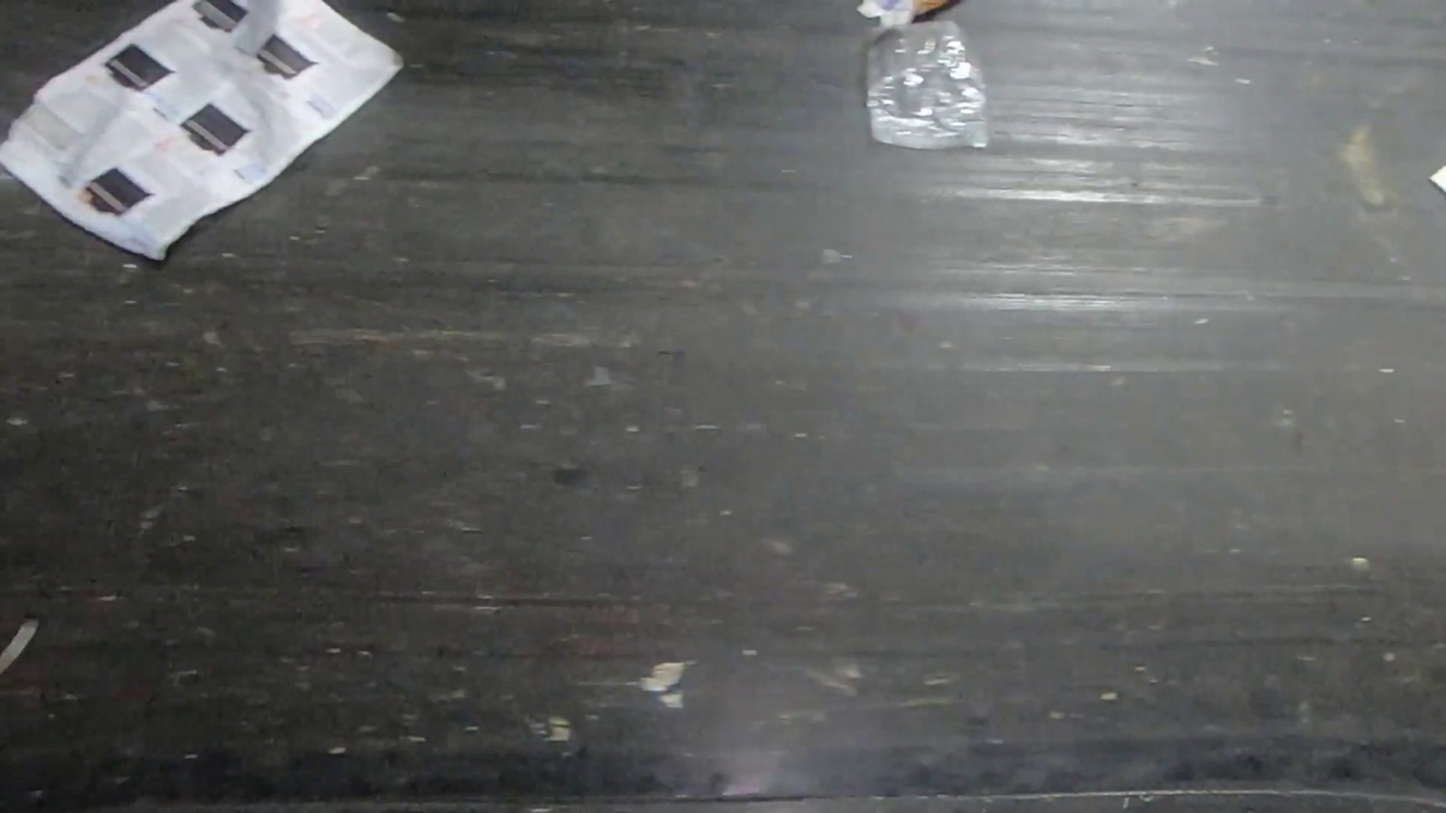plastic: (863, 17, 994, 151)
